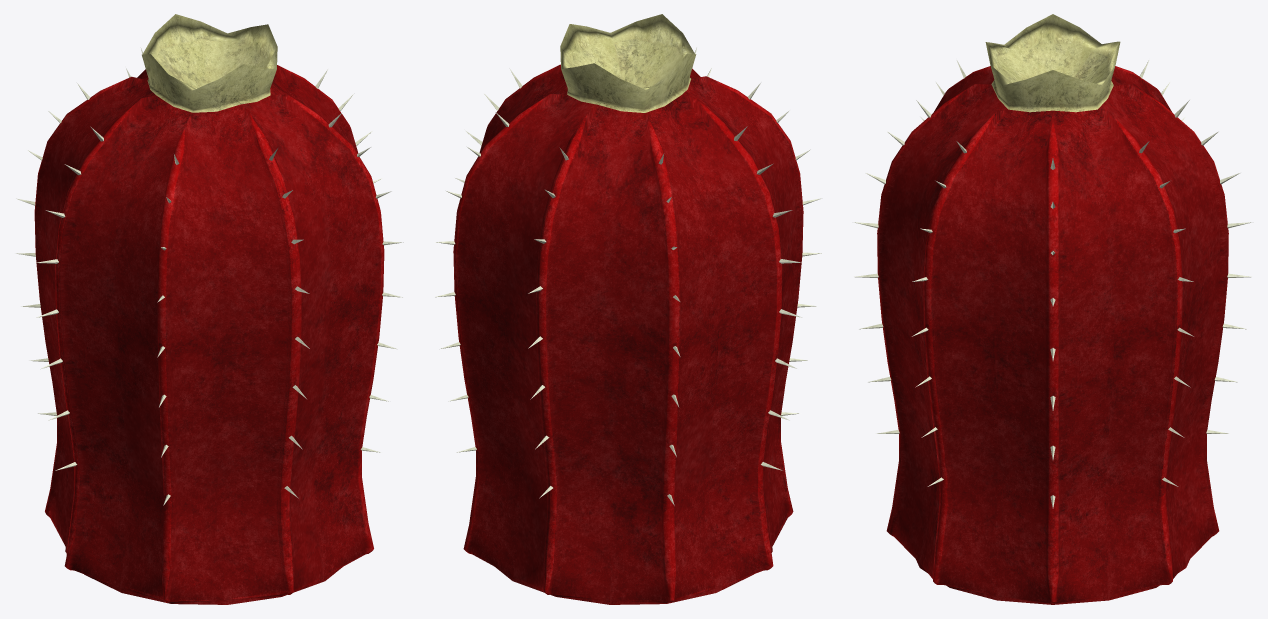
The model's file is Cactus_Ferocactus_Yellow.fbx.
The picture shows the model from 3 angles, left to right: view 1: azimuth 30°, elevation 25°; view 2: azimuth 150°, elevation 25°; view 3: azimuth 270°, elevation 25°; orthographic projection.
Parts seen in each view (by area): view 1: Cactus_Main; view 2: Cactus_Main; view 3: Cactus_Main.
Boxes of the visible parts, x1,y1,x2,y2 form: Cactus_Main: (34,14,384,604); Cactus_Main: (453,14,803,604); Cactus_Main: (877,14,1228,604).
Size of the model in its own units: 1.46 by 2.02 by 1.46.
